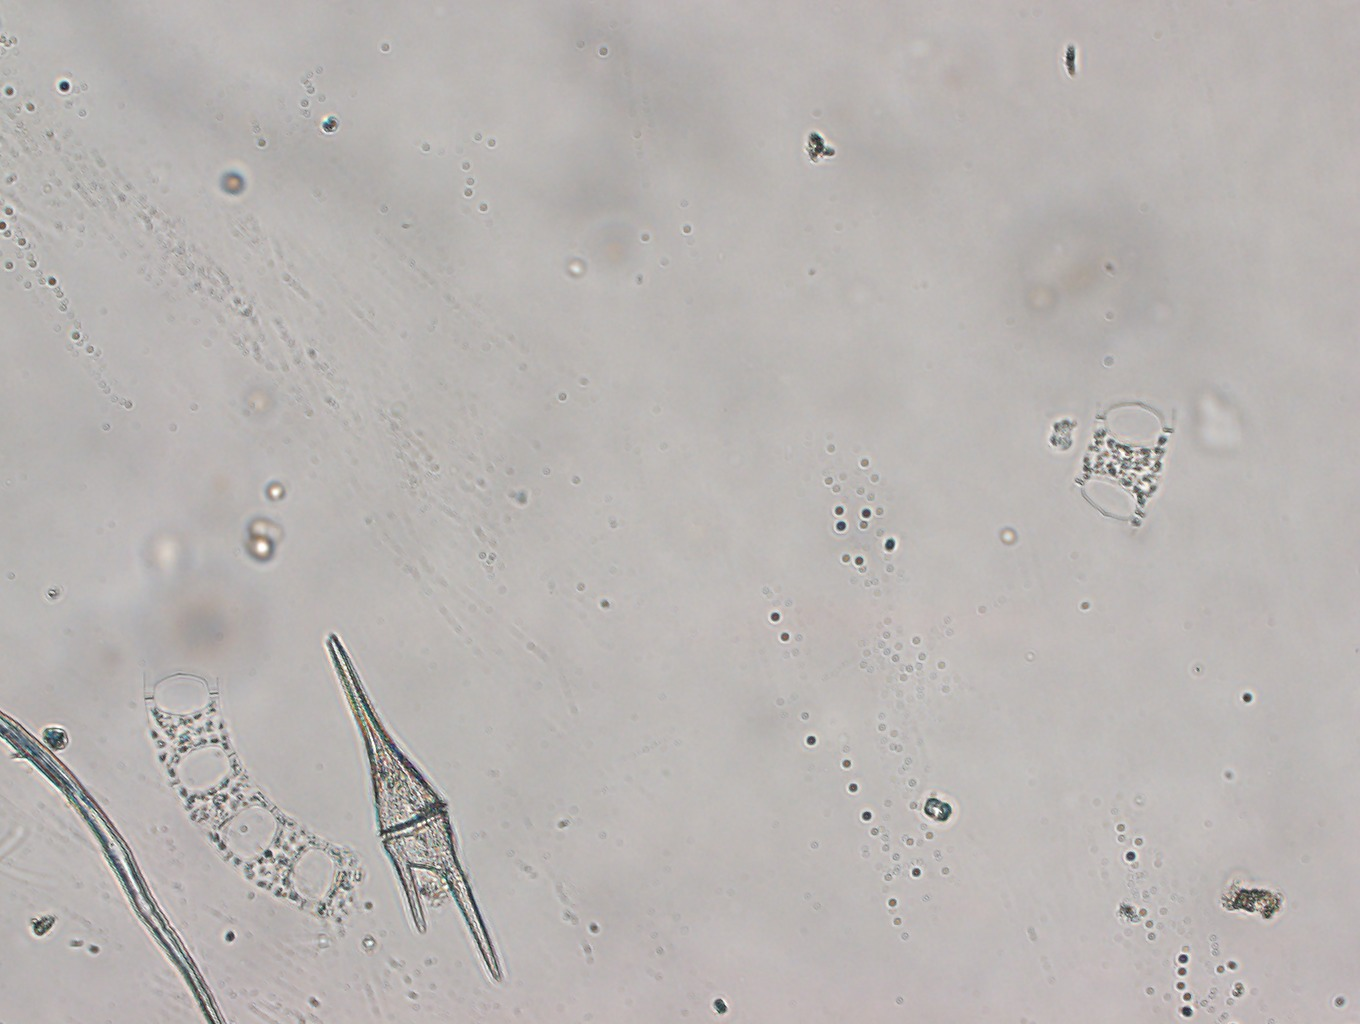ceratium furca: (320, 630, 505, 983)
eucampia: (129, 656, 367, 943), (1064, 383, 1183, 543)
